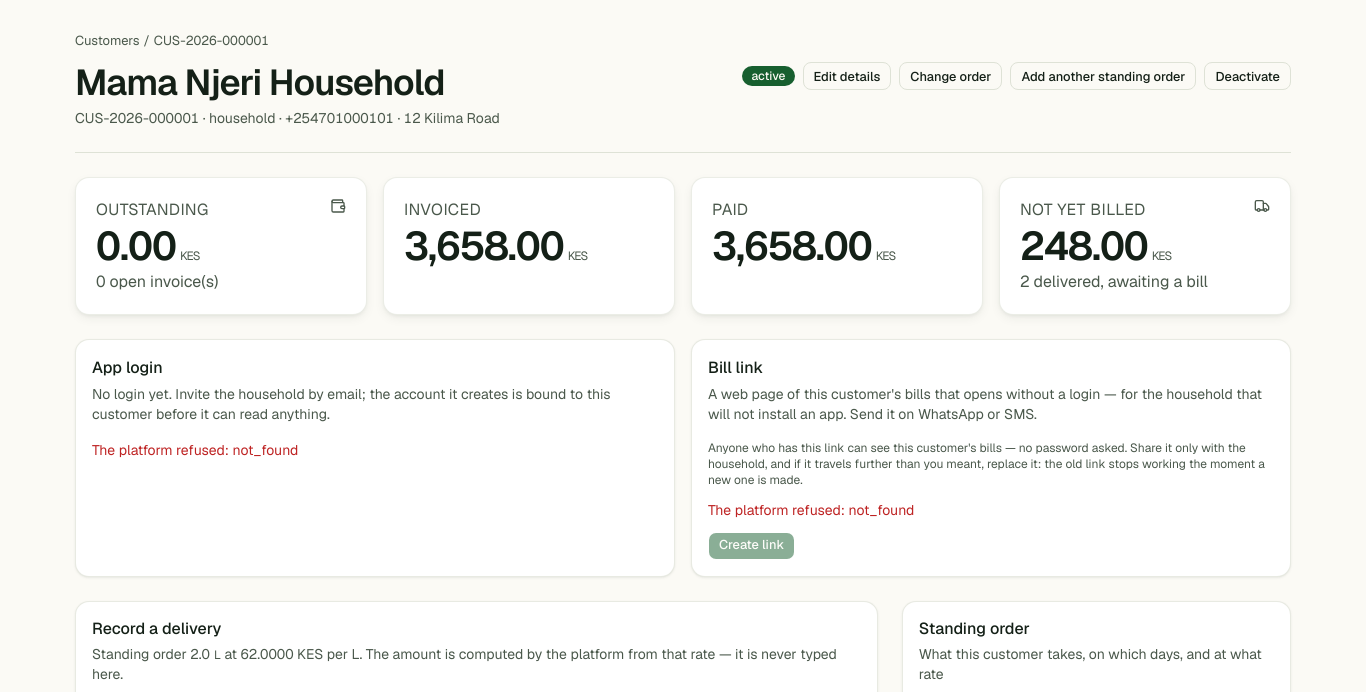
Test: customer detail — the whole workflow › says the new order supersedes rather than edits, because that is what the platform does
The image size is (1366, 692).
Click the button "Change order" at (951, 76), box [899,62,1002,90]
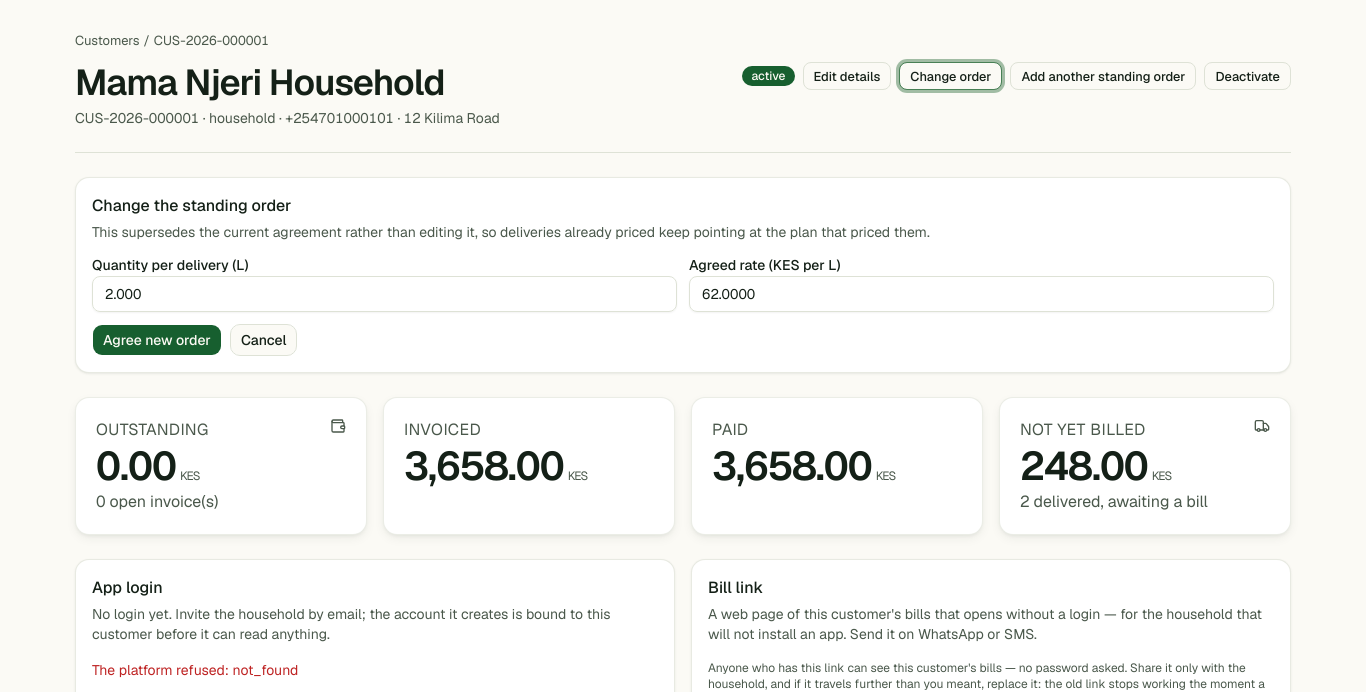
Expected: the text "supersedes the current agreement" is shown, [92,223,930,241]
